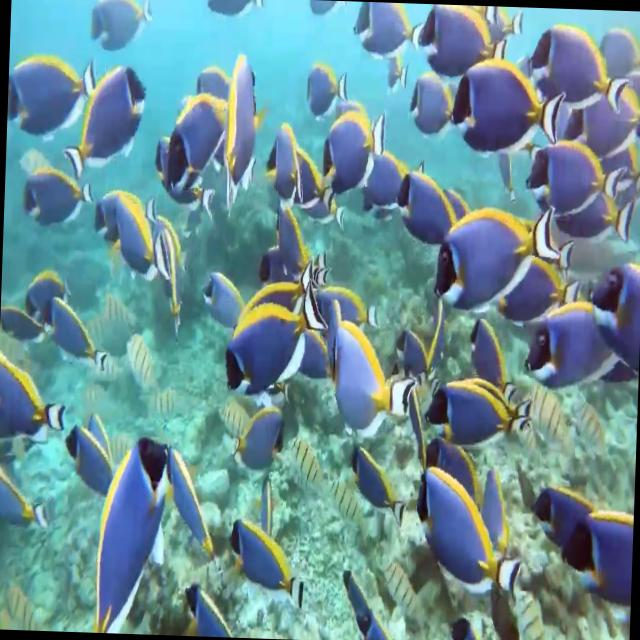fish: (412, 459, 536, 614), (84, 436, 174, 634), (432, 172, 564, 302), (217, 280, 329, 402), (318, 313, 420, 441), (147, 432, 234, 570), (452, 52, 566, 157), (64, 56, 154, 184), (522, 286, 615, 408), (524, 21, 632, 119), (525, 116, 621, 224), (158, 80, 230, 218), (557, 490, 634, 606), (224, 510, 305, 618), (6, 50, 100, 142), (424, 379, 534, 453), (0, 343, 76, 450), (13, 164, 103, 254), (138, 190, 192, 328), (416, 4, 518, 76), (42, 290, 116, 389), (170, 555, 250, 638), (213, 56, 260, 196), (548, 172, 640, 243), (588, 249, 640, 371), (370, 544, 442, 623), (346, 430, 406, 524), (324, 106, 388, 190), (111, 183, 158, 293), (574, 73, 640, 143), (86, 0, 160, 62), (282, 424, 334, 510), (394, 158, 456, 230), (347, 1, 418, 61), (0, 450, 55, 525), (198, 256, 241, 346), (210, 373, 257, 454), (26, 255, 80, 325), (122, 326, 165, 408), (542, 468, 589, 542), (368, 131, 411, 192), (304, 60, 349, 115)
